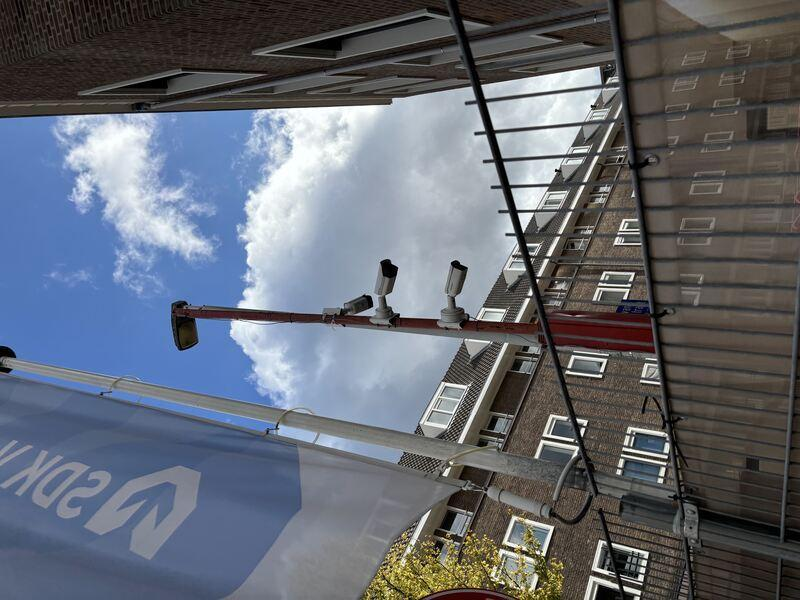bullet: (297, 441, 345, 468), (304, 369, 345, 399), (278, 337, 305, 373)
